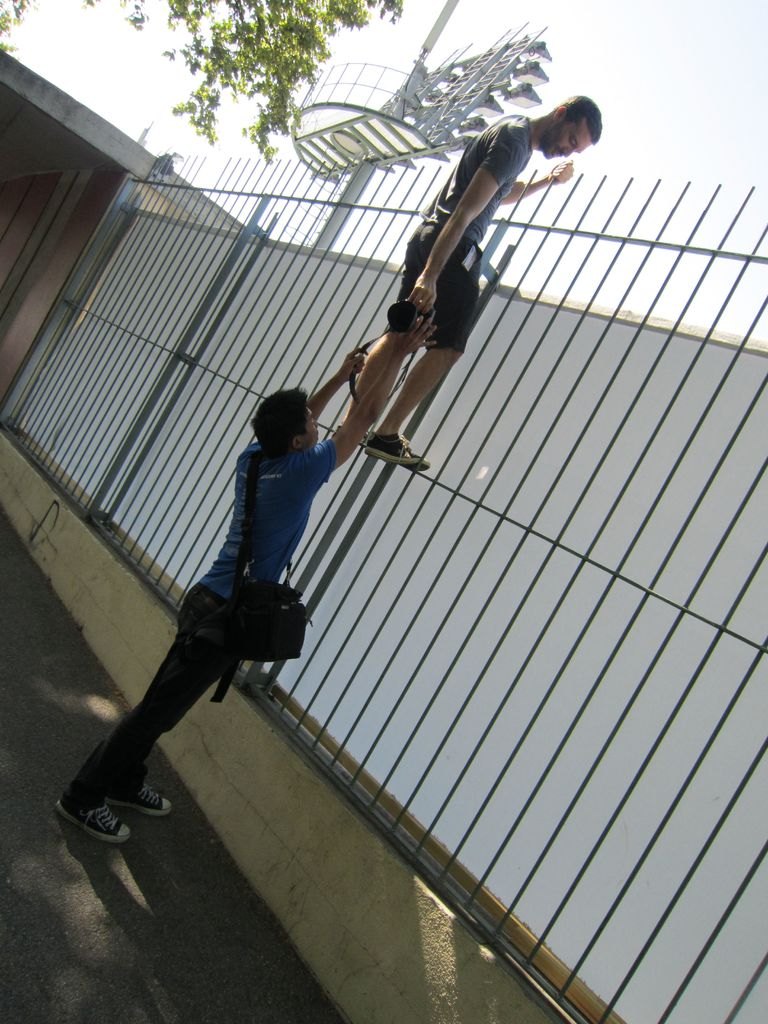Person: (55, 316, 436, 842), (329, 95, 602, 471)
